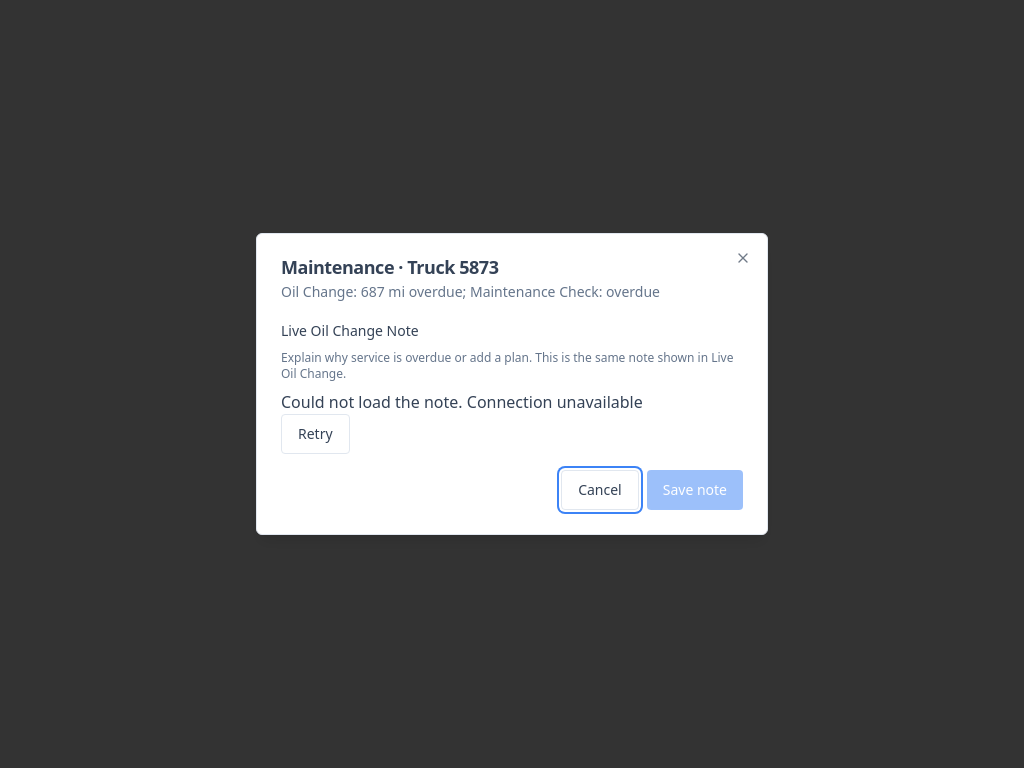
Test: blocks saves after a failed load and supports retry
Check: the message shows "Connection unavailable", box [467,391,643,413]
Check: the button "Save note" is disabled, box [647,470,743,510]
Step 1. Click the button "Retry" → point(315, 434), box [281,414,350,454]
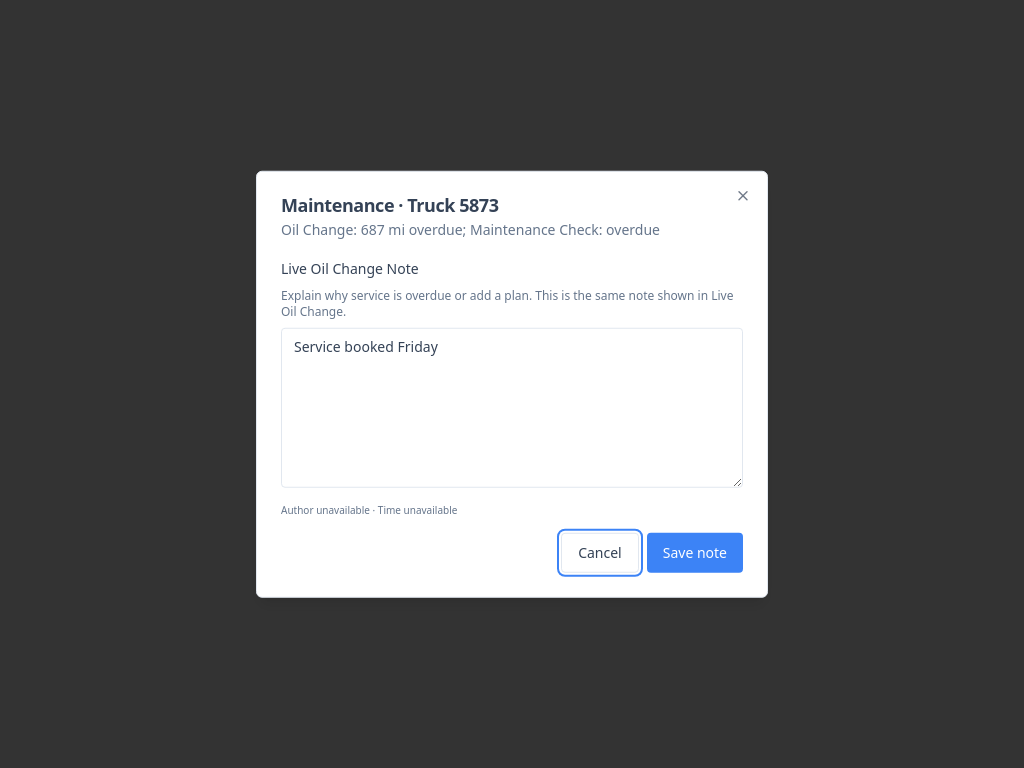
Check: the text box holds "Service booked Friday", box [281,328,743,488]
